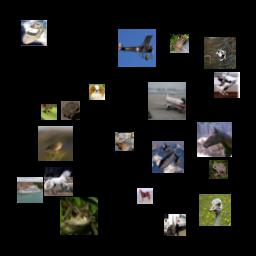airplane: (148, 82, 186, 120), (118, 29, 156, 67), (152, 141, 184, 173)
bird: (38, 126, 73, 161), (204, 37, 236, 69), (199, 194, 231, 226)
deer: (115, 132, 134, 151)
dog: (89, 84, 105, 100)
frog: (60, 197, 98, 235), (61, 101, 80, 120), (209, 160, 228, 179), (170, 34, 189, 53), (41, 104, 57, 120)
ship: (21, 20, 47, 46), (17, 177, 43, 203)
truck: (164, 214, 186, 236)
